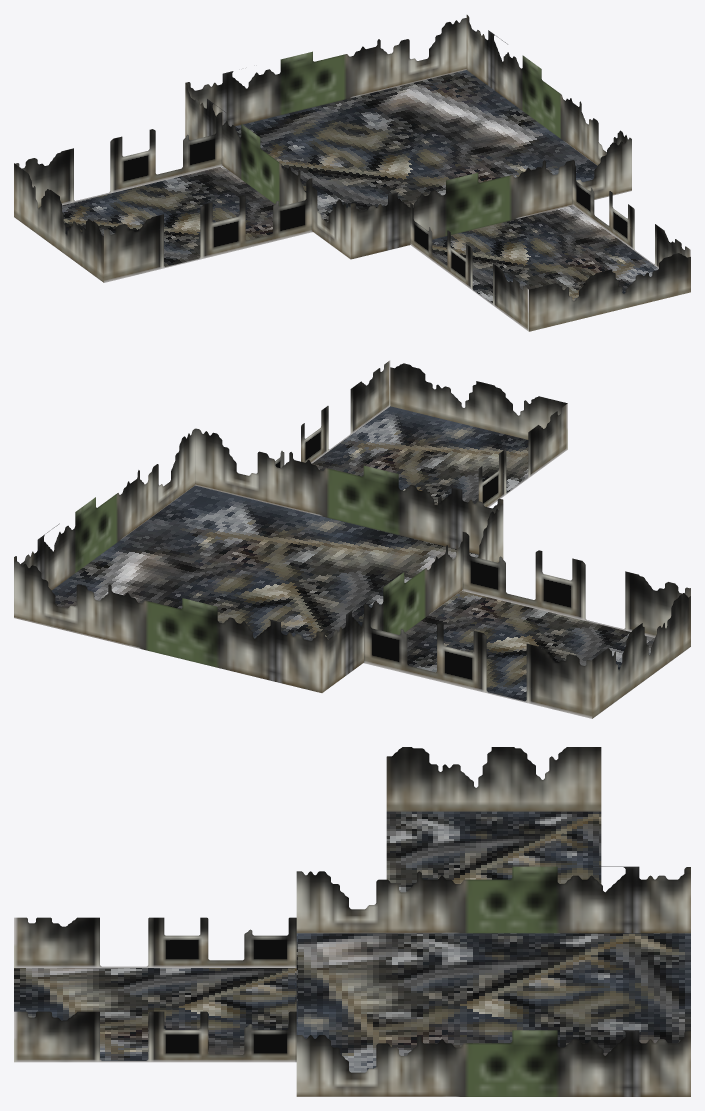
Rendered from s_spotlightcontrol_dam.glb.
The picture shows the model from 3 angles, top to bottom: view 1: azimuth 30°, elevation 25°; view 2: azimuth 150°, elevation 25°; view 3: azimuth 270°, elevation 25°; orthographic projection. The views are drawn at different scales.
Parts seen in each view (by area): view 1: S_SpotlightControl; view 2: S_SpotlightControl; view 3: S_SpotlightControl.
Part boxes in pixels (bbox=[...]): S_SpotlightControl: bbox=[14, 15, 690, 331]; S_SpotlightControl: bbox=[14, 360, 690, 718]; S_SpotlightControl: bbox=[14, 747, 690, 1096].
Bounding box in the file's own units: 17.02 × 1.85 × 17.08.
Materials: 2 (2 with a texture image).
